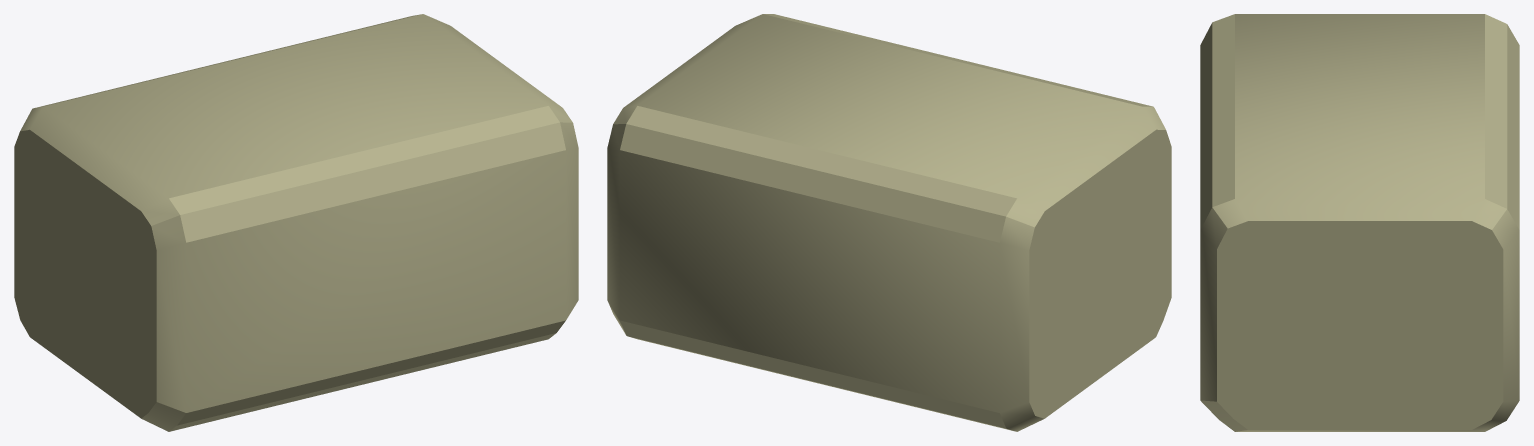
File: masło.fbx
The picture shows the model from 3 angles, left to right: view 1: azimuth 30°, elevation 25°; view 2: azimuth 150°, elevation 25°; view 3: azimuth 270°, elevation 25°; orthographic projection.
Parts seen in each view (by area): view 1: Masło; view 2: Masło; view 3: Masło.
Part boxes in pixels (<box>): Masło: <box>14,14,578,431</box>; Masło: <box>607,14,1171,431</box>; Masło: <box>1200,14,1519,431</box>.
Size of the model in its own units: 3.06 by 1.62 by 2.01.
